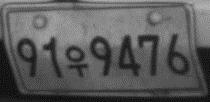1: (41, 36, 63, 79)
4: (117, 33, 142, 77)
6: (164, 32, 190, 76)
7: (137, 32, 160, 78)
9: (15, 37, 39, 79), (90, 35, 112, 77)
우: (64, 43, 89, 77)
